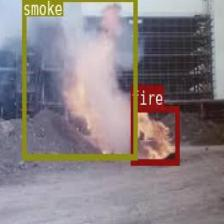fire: (130, 105, 179, 163)
smoke: (22, 0, 136, 159)
